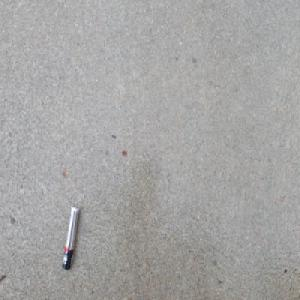Battery: (60, 202, 78, 270)
